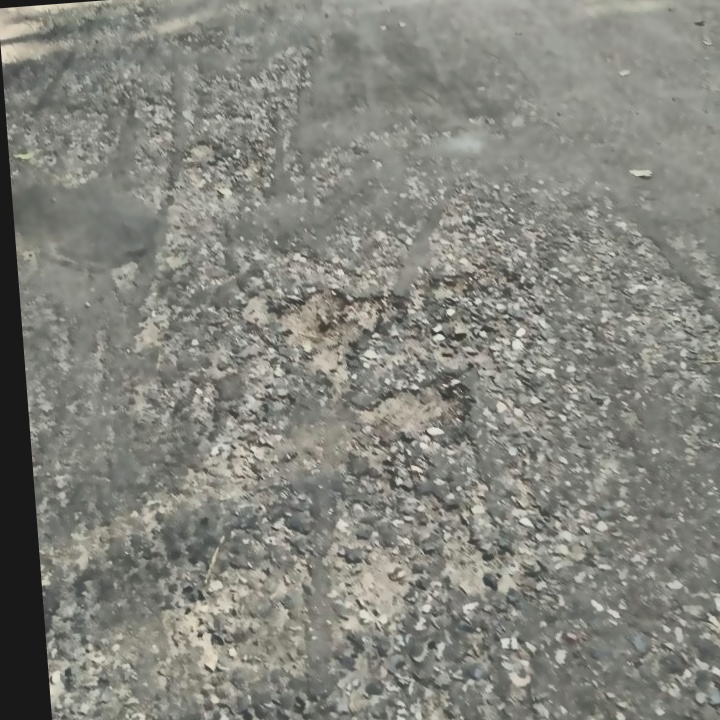pothole: (273, 282, 386, 385), (364, 375, 468, 439)
